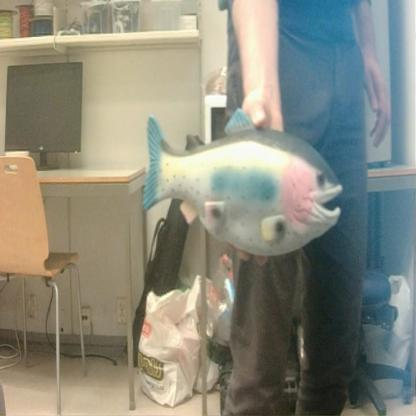rubberfish: (139, 98, 345, 261)
